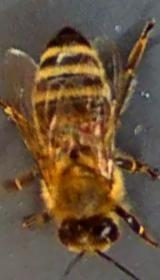varroa_mite: (69, 109, 107, 137)
